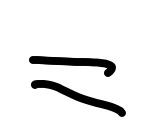eqv: (29, 56, 127, 117)
